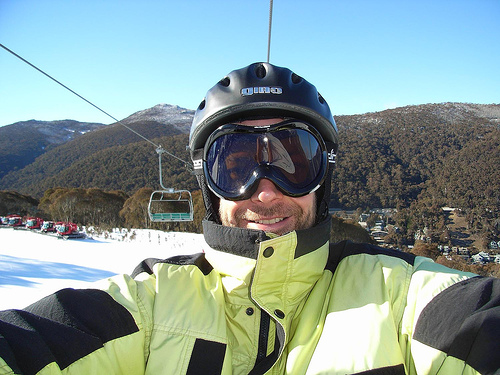helmet: (188, 73, 346, 146)
